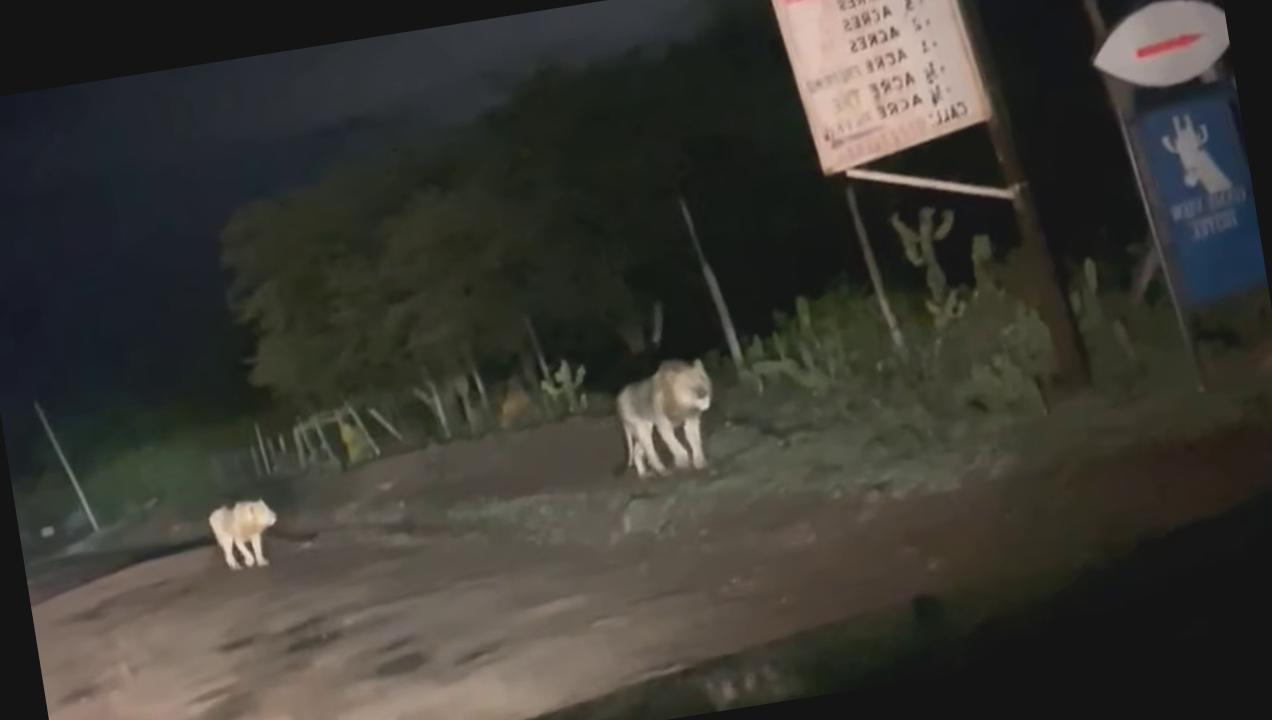lions: (600, 346, 745, 485), (196, 456, 298, 600)
